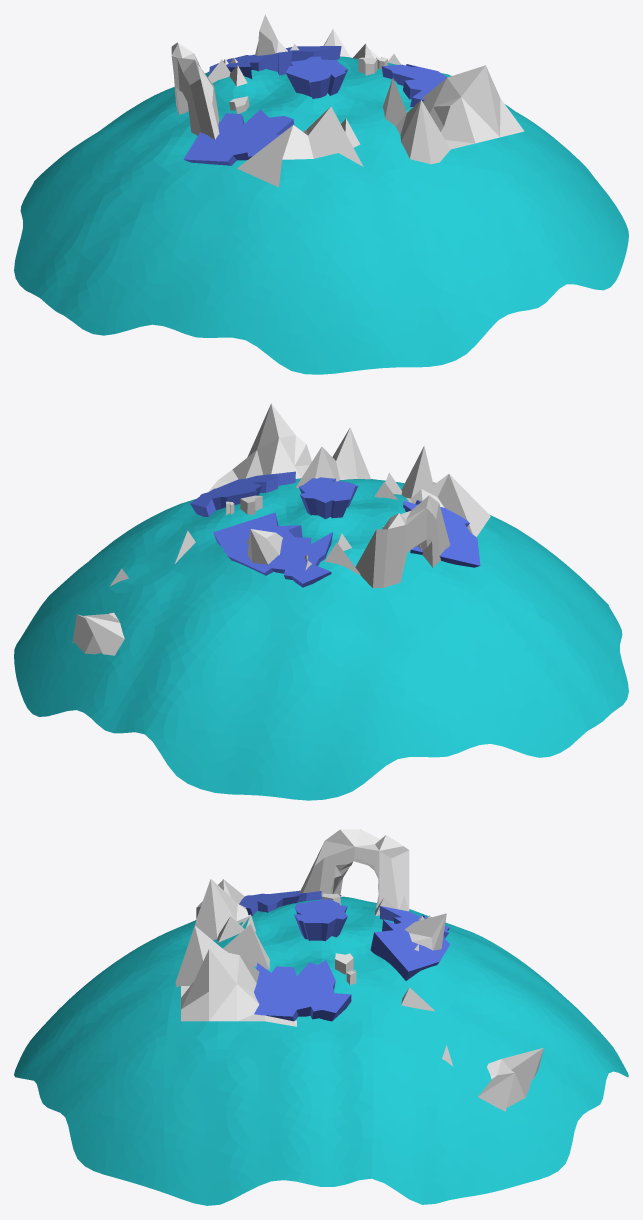
File: Issiei.fbx
3 views of the same model, one above another, from view 1: azimuth 30°, elevation 25°; view 2: azimuth 150°, elevation 25°; view 3: azimuth 270°, elevation 25° (orthographic).
Visible parts, largest first — view 1: Icosphere, SurfPatch, SurfPatch.001, Cylinder.003, Cylinder.004, Cylinder, Cylinder.005, Cylinder.002, Cone.006; view 2: Icosphere, SurfPatch, Cylinder.004, Cylinder.005, SurfPatch.001, Cylinder.002, Cylinder, SurfPatch.002, Cylinder.003, Cone.006; view 3: Icosphere, SurfPatch, Cylinder.004, Cylinder.002, Cylinder.005, SurfPatch.002, SurfPatch.001, Cylinder, Cylinder.003, Cone.006.
Boxes of the visible parts, box(x1,y1,x2,y2) form: Icosphere: box(14, 56, 628, 374); SurfPatch: box(383, 65, 524, 164); SurfPatch.001: box(237, 106, 363, 187); Cylinder.003: box(183, 109, 294, 165); Cylinder.004: box(171, 42, 219, 139); Cylinder: box(285, 56, 347, 98); Cylinder.005: box(209, 46, 341, 78); Cylinder.002: box(381, 64, 447, 106); Cone.006: box(255, 14, 287, 55); Icosphere: box(14, 478, 628, 800); SurfPatch: box(208, 403, 370, 492); Cylinder.004: box(355, 495, 449, 588); Cylinder.005: box(213, 512, 332, 587); SurfPatch.001: box(395, 446, 490, 536); Cylinder.002: box(190, 471, 295, 516); Cylinder: box(299, 477, 358, 518); SurfPatch.002: box(72, 612, 124, 655); Cylinder.003: box(403, 500, 480, 567); Cone.006: box(247, 529, 282, 564); Icosphere: box(14, 896, 628, 1205); SurfPatch: box(175, 924, 296, 1026); Cylinder.004: box(299, 829, 409, 910); Cylinder.002: box(254, 960, 351, 1021); Cylinder.005: box(370, 906, 449, 980); SurfPatch.002: box(478, 1048, 543, 1111); SurfPatch.001: box(195, 879, 250, 940); Cylinder: box(294, 899, 347, 941); Cylinder.003: box(239, 890, 341, 915); Cone.006: box(405, 913, 446, 950).
Bounding box in the file's own units: 2143 × 811 × 2199.
